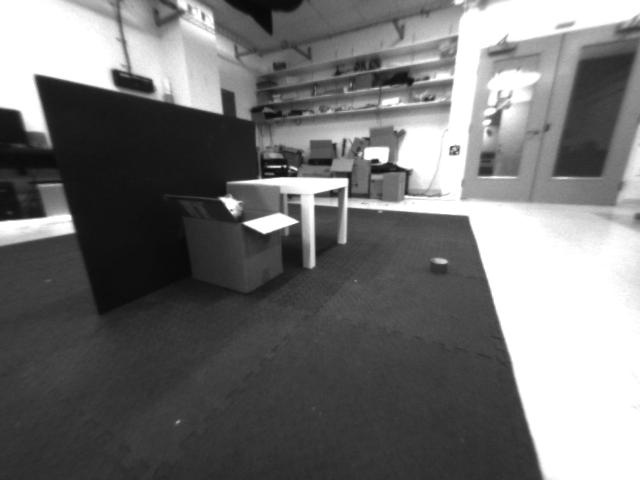dogtoy: (418, 248, 467, 285)
